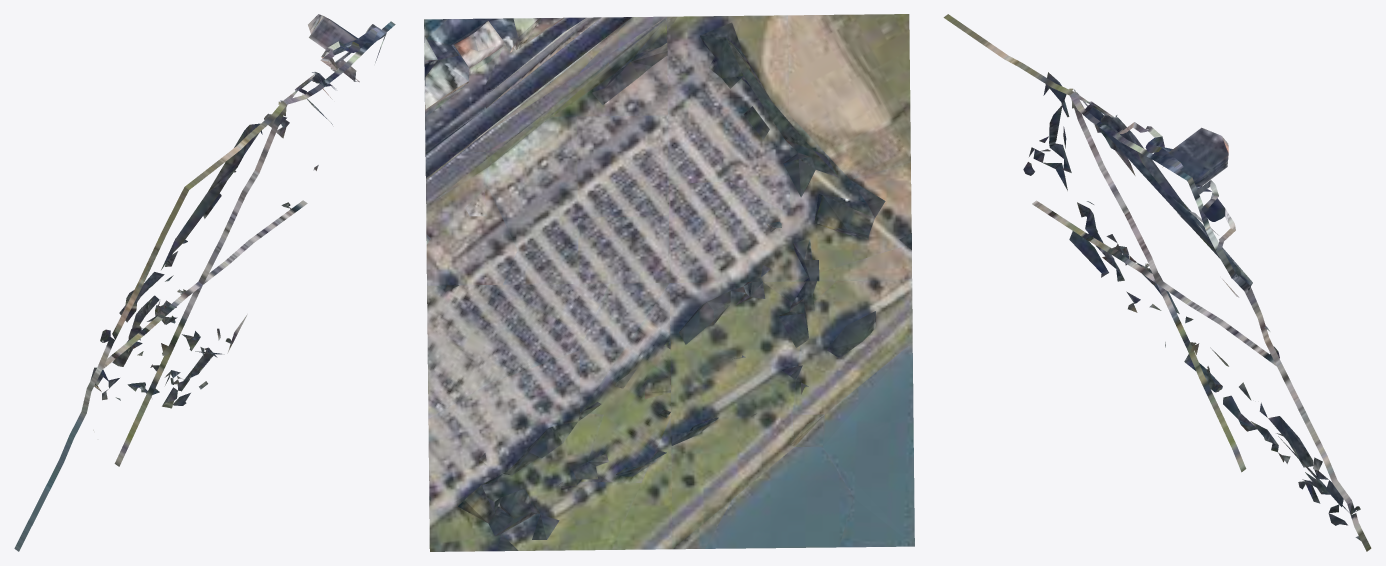
3 renders of one model, left to right at view 1: azimuth 30°, elevation 25°; view 2: azimuth 150°, elevation 25°; view 3: azimuth 270°, elevation 25°, orthographic. The views are drawn at different scales.
Bounding box in the file's own units: 301 × 294 × 258.
Materials: 1 (1 with a texture image).
